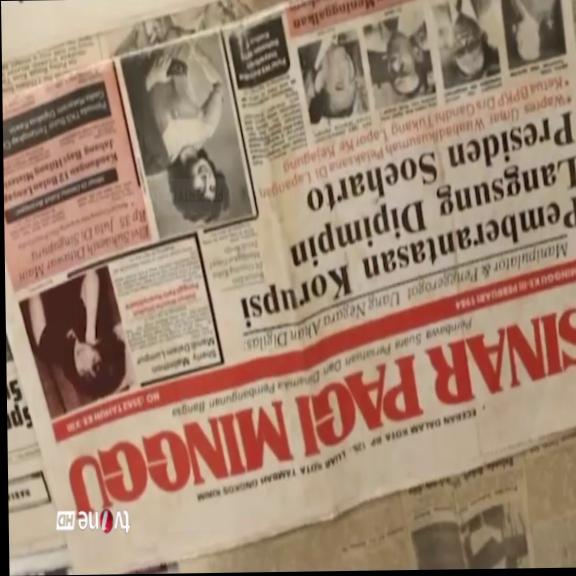Kertas: (18, 255, 576, 572), (236, 0, 576, 326)
